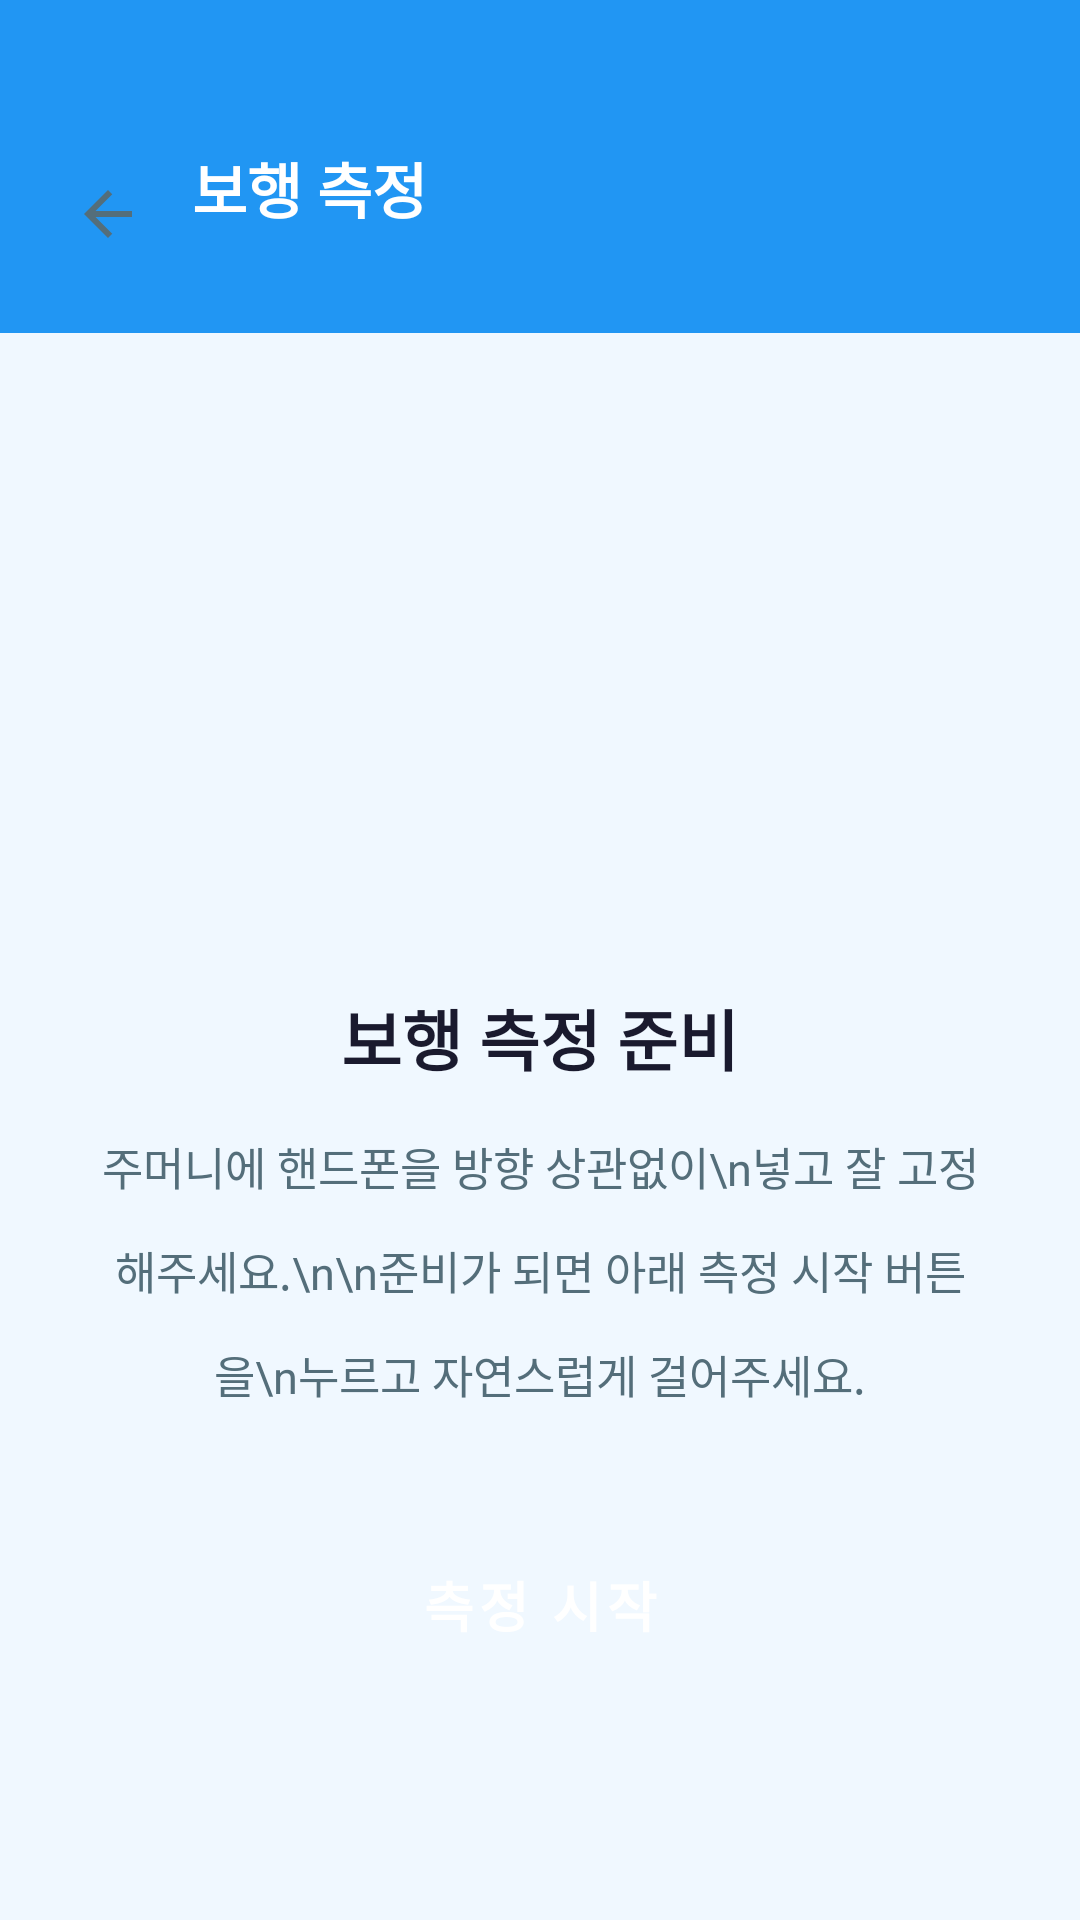

Named icons in this screenshot (1080 x 1920) and their centers, (x,y):
뒤로가기: (108,214)
